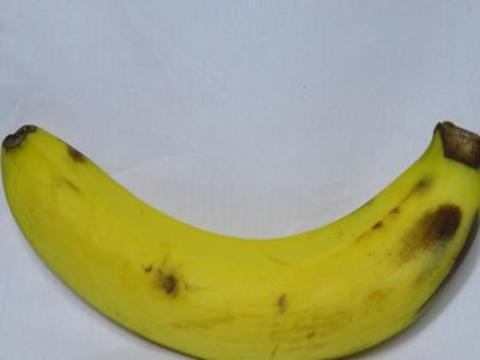freshripe: (0, 107, 479, 359)
